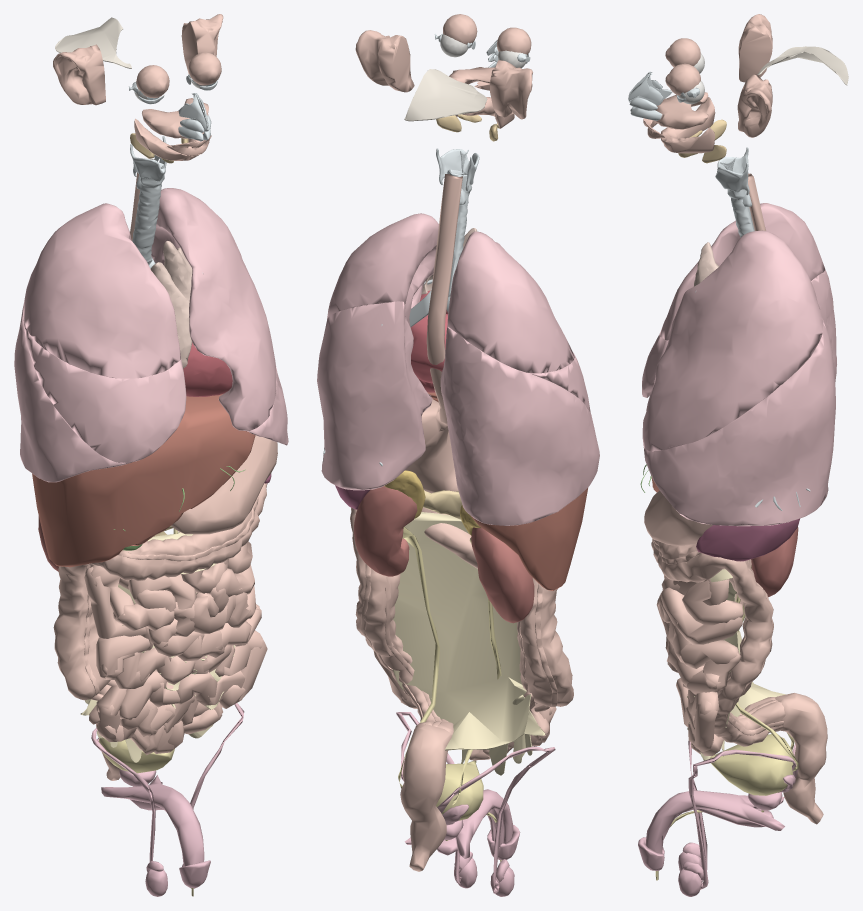
Rendered from organs.glb.
The picture shows the model from 3 angles, left to right: view 1: azimuth 30°, elevation 25°; view 2: azimuth 150°, elevation 25°; view 3: azimuth 270°, elevation 25°; orthographic projection. The views are drawn at different scales.
Visible parts, largest first — view 1: upper_lobe_of_lung|-1|organ, liver|0|organ, upper_lobe_of_lung|1|organ, ileum|0|organ, jejunum|0|organ, middle_lobe_of_lung|0|organ, colon|0|organ, lower_lobe_of_lung|-1|organ, stomach|0|organ, ear|0|organ, penis|0|organ, gingiva|0|organ (+13 smaller); view 2: lower_lobe_of_lung|-1|organ, transverse_mesocolon|0|organ, lower_lobe_of_lung|1|organ, upper_lobe_of_lung|-1|organ, colon|0|organ, upper_lobe_of_lung|1|organ, rectum|0|organ, liver|0|organ, ear|0|organ, kidney|1|organ, esophagus|0|organ, kidney|-1|organ (+20 smaller); view 3: upper_lobe_of_lung|1|organ, lower_lobe_of_lung|1|organ, colon|0|organ, jejunum|0|organ, rectum|0|organ, penis|0|organ, upper_lobe_of_lung|-1|organ, ear|0|organ, urinary_bladder|0|organ, spleen|0|organ, gingiva|0|organ, ileum|0|organ (+17 smaller).
Part boxes in pixels (x1=…): upper_lobe_of_lung|-1|organ: x1=23, y1=203, x2=180, y2=378; liver|0|organ: x1=32, y1=394, x2=255, y2=567; upper_lobe_of_lung|1|organ: x1=151, y1=188, x2=276, y2=431; ileum|0|organ: x1=96, y1=630, x2=267, y2=754; jejunum|0|organ: x1=84, y1=541, x2=261, y2=661; middle_lobe_of_lung|0|organ: x1=23, y1=316, x2=186, y2=463; colon|0|organ: x1=53, y1=483, x2=267, y2=700; lower_lobe_of_lung|-1|organ: x1=14, y1=304, x2=132, y2=482; stomach|0|organ: x1=171, y1=435, x2=277, y2=534; ear|0|organ: x1=53, y1=14, x2=223, y2=105; penis|0|organ: x1=101, y1=775, x2=210, y2=887; gingiva|0|organ: x1=134, y1=98, x2=208, y2=160; lower_lobe_of_lung|-1|organ: x1=440, y1=326, x2=599, y2=525; transverse_mesocolon|0|organ: x1=392, y1=512, x2=531, y2=750; lower_lobe_of_lung|1|organ: x1=317, y1=301, x2=432, y2=490; upper_lobe_of_lung|-1|organ: x1=447, y1=231, x2=574, y2=373; colon|0|organ: x1=350, y1=507, x2=573, y2=734; upper_lobe_of_lung|1|organ: x1=327, y1=213, x2=438, y2=324; rectum|0|organ: x1=400, y1=724, x2=451, y2=871; liver|0|organ: x1=427, y1=392, x2=588, y2=590; ear|0|organ: x1=355, y1=30, x2=532, y2=119; kidney|1|organ: x1=354, y1=486, x2=417, y2=576; esophagus|0|organ: x1=426, y1=174, x2=462, y2=425; kidney|-1|organ: x1=471, y1=527, x2=534, y2=623; upper_lobe_of_lung|1|organ: x1=642, y1=230, x2=823, y2=451; lower_lobe_of_lung|1|organ: x1=643, y1=319, x2=835, y2=526; colon|0|organ: x1=651, y1=540, x2=785, y2=746; jejunum|0|organ: x1=656, y1=575, x2=743, y2=694; rectum|0|organ: x1=775, y1=693, x2=827, y2=824; penis|0|organ: x1=638, y1=790, x2=784, y2=870; upper_lobe_of_lung|-1|organ: x1=659, y1=203, x2=825, y2=340; ear|0|organ: x1=737, y1=14, x2=772, y2=137; urinary_bladder|0|organ: x1=710, y1=734, x2=793, y2=795; spleen|0|organ: x1=696, y1=518, x2=799, y2=561; gingiva|0|organ: x1=655, y1=92, x2=715, y2=153; ileum|0|organ: x1=676, y1=677, x2=723, y2=755.
Bounding box in the file's own units: 0.2531 × 0.8542 × 0.204.
